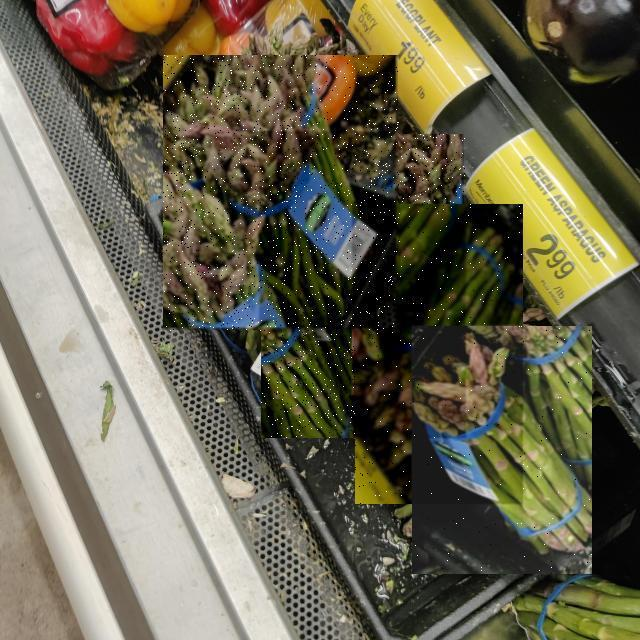Asparagus: (164, 56, 400, 332), (262, 135, 466, 439), (355, 205, 523, 505), (413, 326, 593, 574)
